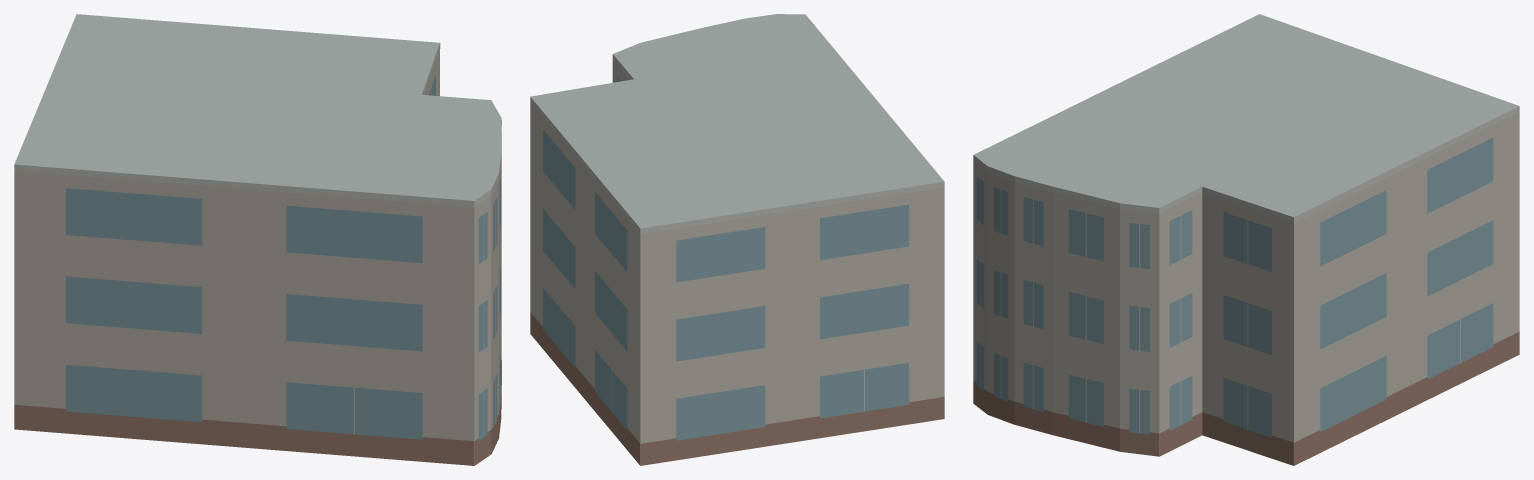
File: survey-upis-33017190.glb
The picture shows the model from 3 angles, left to right: view 1: azimuth 30°, elevation 25°; view 2: azimuth 150°, elevation 25°; view 3: azimuth 270°, elevation 25°; orthographic projection. The views are drawn at different scales.
Parts seen in each view (by area): view 1: survey-upis-33017190.tmp; view 2: survey-upis-33017190.tmp; view 3: survey-upis-33017190.tmp.
Boxes of the visible parts, x1,y1,x2,y2 form: survey-upis-33017190.tmp: (14, 14, 501, 465); survey-upis-33017190.tmp: (530, 14, 944, 465); survey-upis-33017190.tmp: (973, 14, 1519, 465).
Size of the model in its own units: 17.9 by 10.2 by 20.32.
